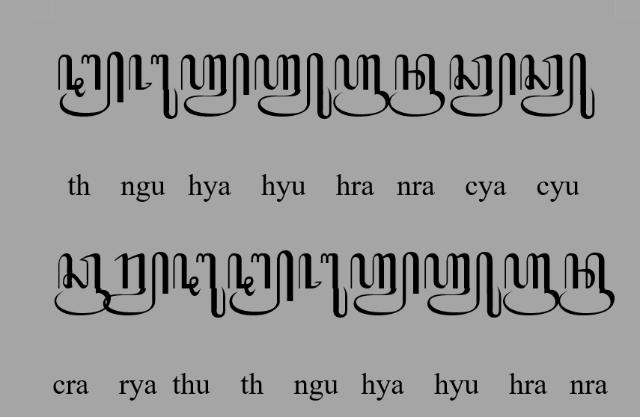-th: (58, 50, 124, 118), (227, 251, 293, 316)
cr: (55, 253, 112, 317)
cy: (449, 52, 516, 118)
cyu: (520, 52, 596, 120)
hr: (502, 254, 560, 316), (334, 54, 390, 118)
hy: (180, 52, 252, 118), (350, 252, 420, 316)
hyu: (254, 52, 334, 120), (423, 251, 502, 319)
ngu: (128, 54, 178, 120), (297, 252, 347, 317)
nr: (389, 54, 445, 118), (559, 252, 615, 316)
ry: (104, 253, 168, 317)
th: (172, 254, 226, 318)
